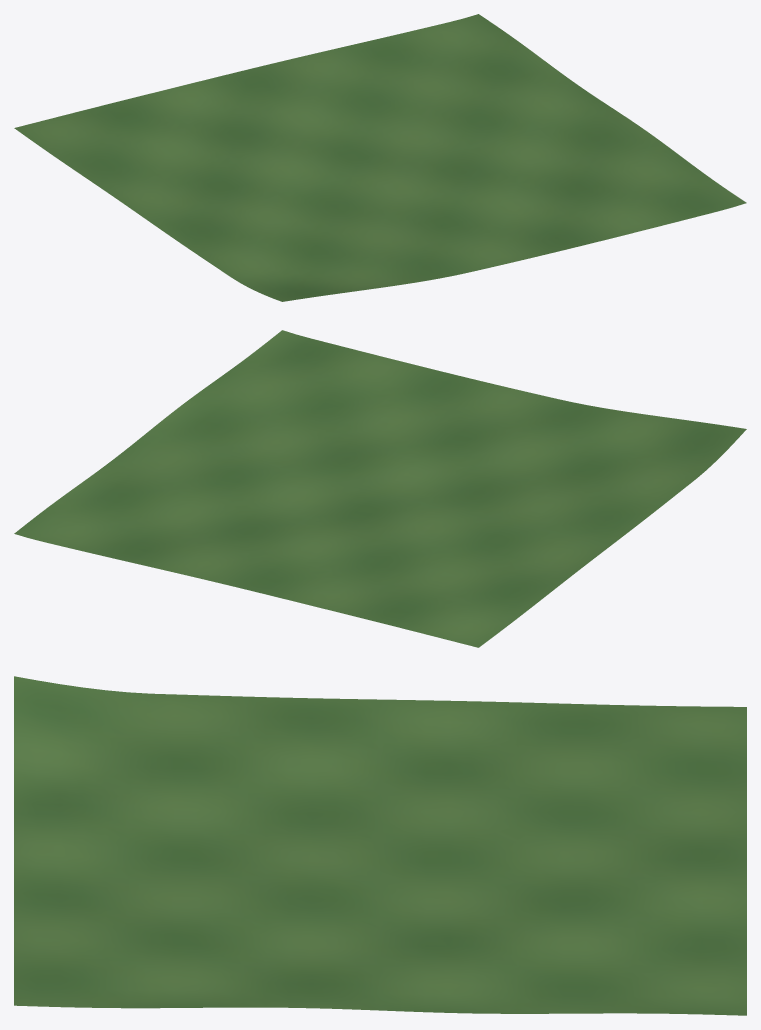
Rendered from chunk_11_9.glb.
The picture shows the model from 3 angles, top to bottom: view 1: azimuth 30°, elevation 25°; view 2: azimuth 150°, elevation 25°; view 3: azimuth 270°, elevation 25°; orthographic projection. The views are drawn at different scales.
Bounding box in the file's own units: 512 × 25.07 × 512.
